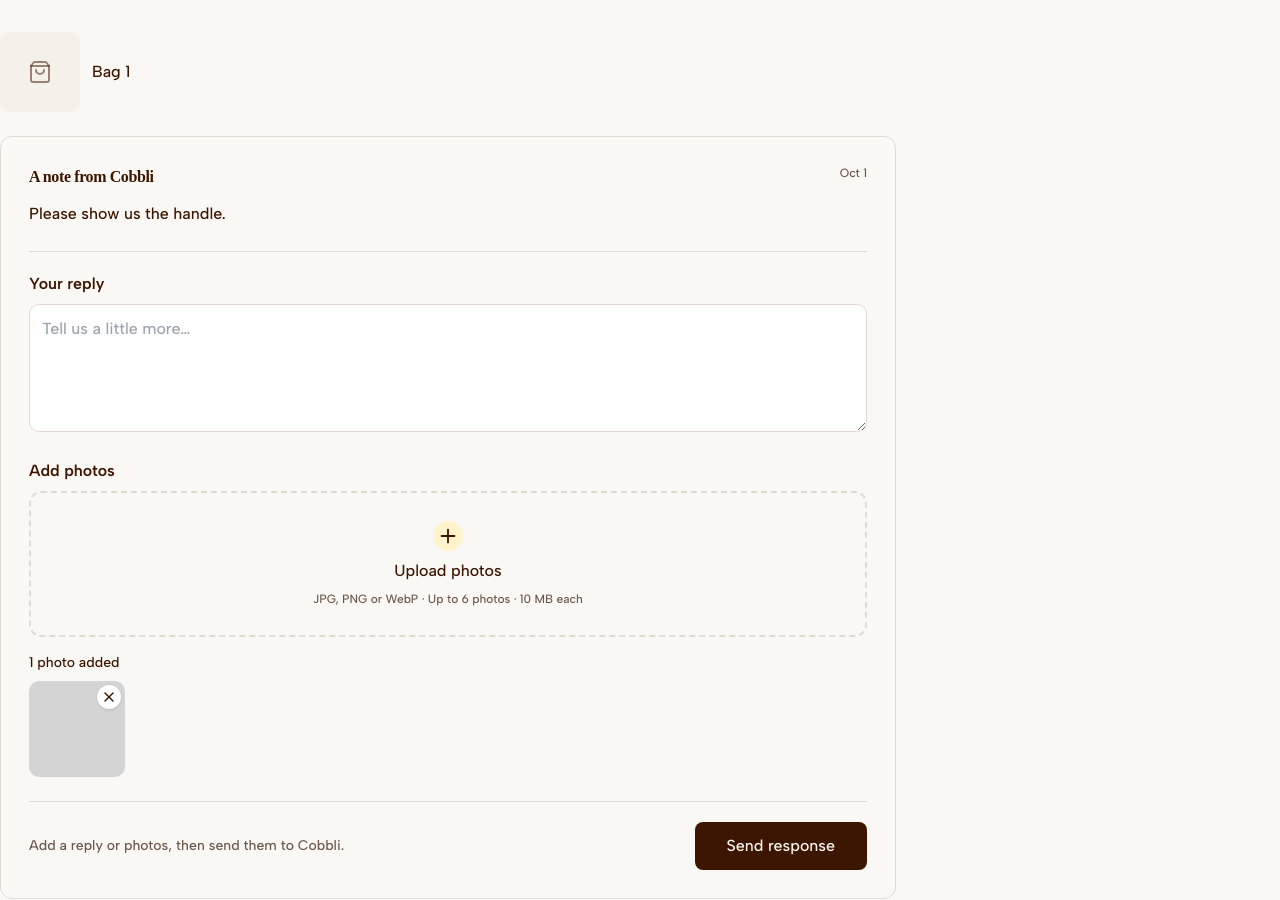
Test: customer response › supports a photo-only reply and removal, and rejects non-photo files
This screenshot has width=1280, height=900.
Earlier steps of the test are not shown.
Later steps or results of the test are not shown.
Expected: the text box labelled "Your reply" is shown, x1=29 y1=304 x2=867 y2=432
Expected: the button "Send response" is enabled, x1=694 y1=822 x2=867 y2=870
Click the button named "Remove photo 1". click: (109, 697)
box: x1=97 y1=685 x2=121 y2=709
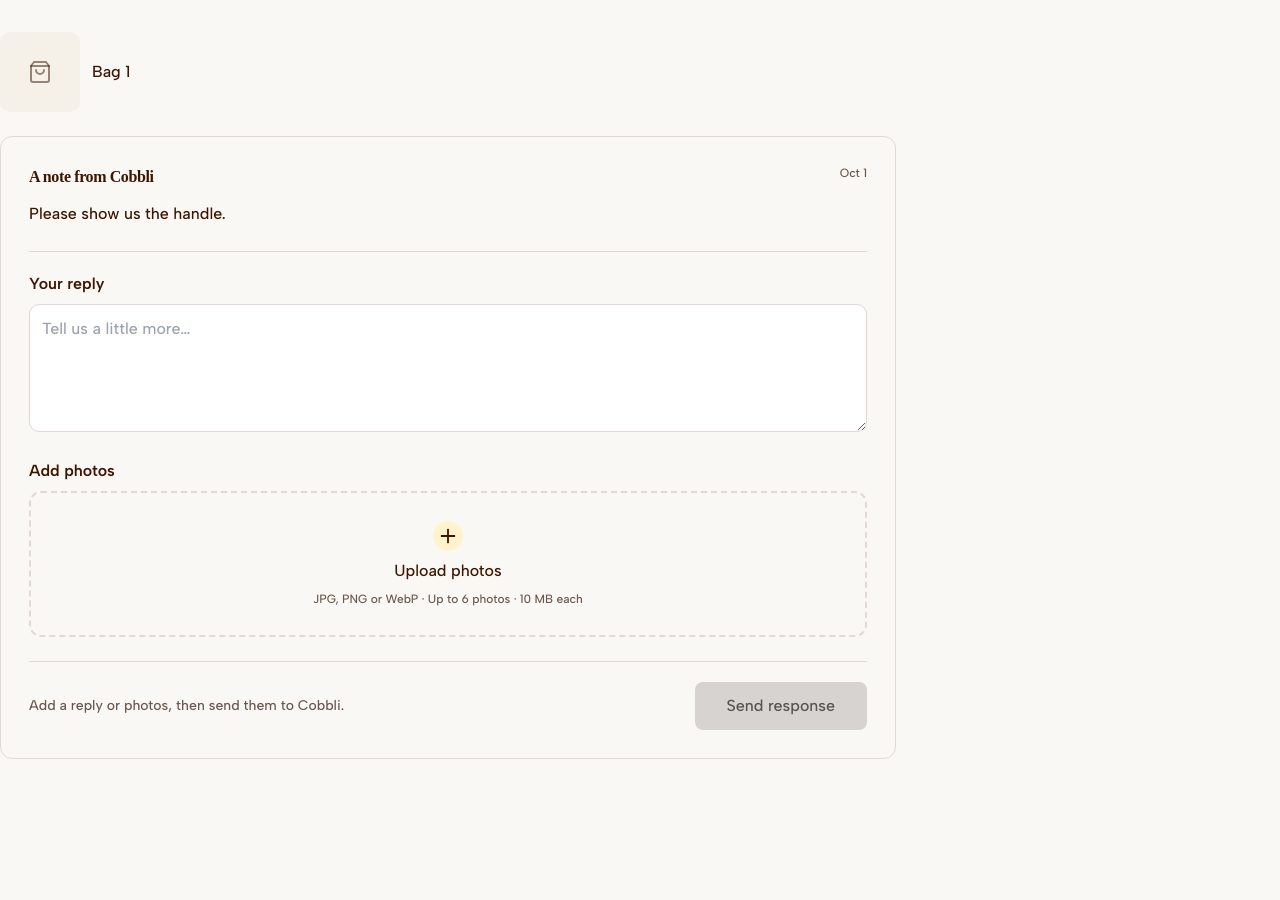
Now the button "Send response" is disabled, box x1=694 y1=682 x2=867 y2=730
